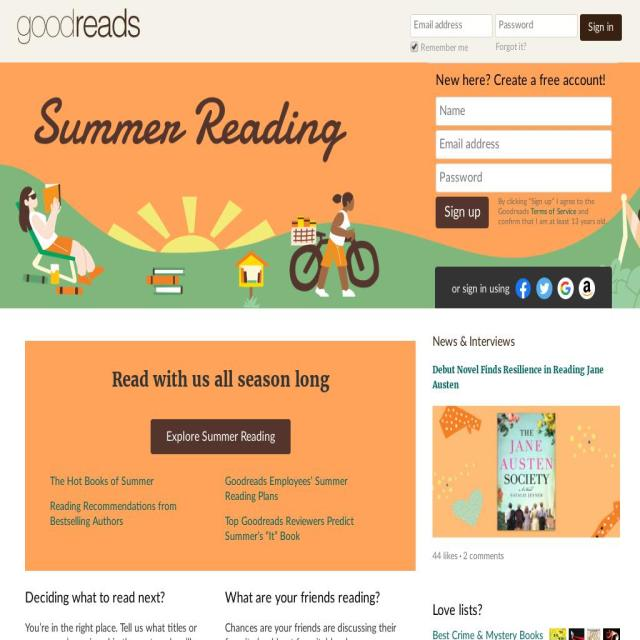button: (432, 362, 620, 392), (150, 419, 291, 454)
field: (436, 96, 612, 125), (436, 130, 612, 159), (436, 164, 612, 192), (410, 14, 492, 38), (495, 14, 577, 38), (436, 197, 488, 228), (580, 14, 622, 41), (411, 42, 418, 53)
heading: (432, 602, 620, 618), (432, 334, 620, 349), (25, 591, 200, 606), (225, 591, 400, 606), (436, 74, 610, 88)
image: (432, 406, 620, 537), (17, 8, 140, 44), (515, 278, 531, 299), (536, 278, 552, 299), (558, 278, 574, 299), (579, 278, 595, 299), (549, 627, 566, 640), (568, 627, 585, 640), (603, 627, 620, 640), (586, 627, 601, 640)
label: (421, 42, 468, 52)
link: (224, 516, 354, 542), (50, 501, 177, 527), (225, 476, 348, 502), (433, 629, 543, 640), (50, 476, 154, 487), (531, 207, 576, 216), (496, 42, 526, 52)
text: (35, 368, 406, 392), (25, 621, 200, 640), (225, 621, 400, 640), (498, 207, 607, 226), (498, 197, 594, 216), (452, 283, 512, 295), (463, 550, 504, 561), (432, 550, 458, 561), (458, 550, 463, 561)
